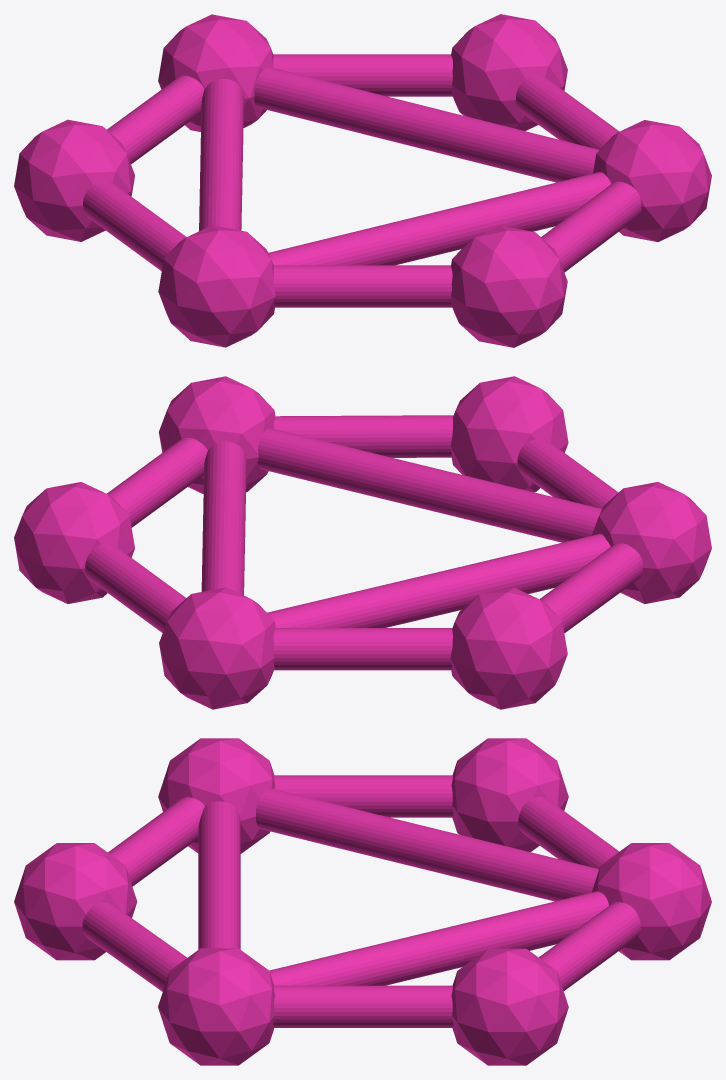
File: graphql.glb
3 renders of one model, top to bottom at view 1: azimuth 30°, elevation 25°; view 2: azimuth 150°, elevation 25°; view 3: azimuth 270°, elevation 25°, orthographic.
Visible parts, largest first — view 1: Cylinder.003; view 2: Cylinder.003; view 3: Cylinder.003.
Boxes of the visible parts, bbox=[...] form: Cylinder.003: bbox=[14, 14, 711, 347]; Cylinder.003: bbox=[14, 376, 711, 709]; Cylinder.003: bbox=[14, 738, 711, 1065].
Bounding box in the file's own units: 3.51 × 0.7039 × 3.98.
